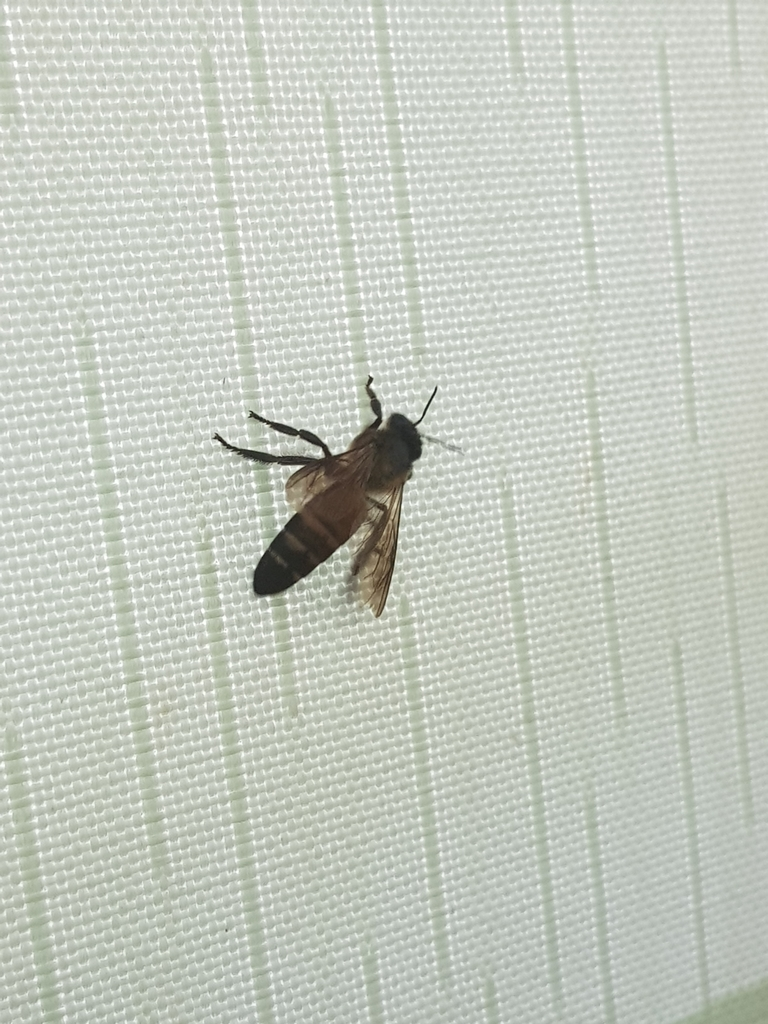honeybee: (214, 377, 456, 616)
